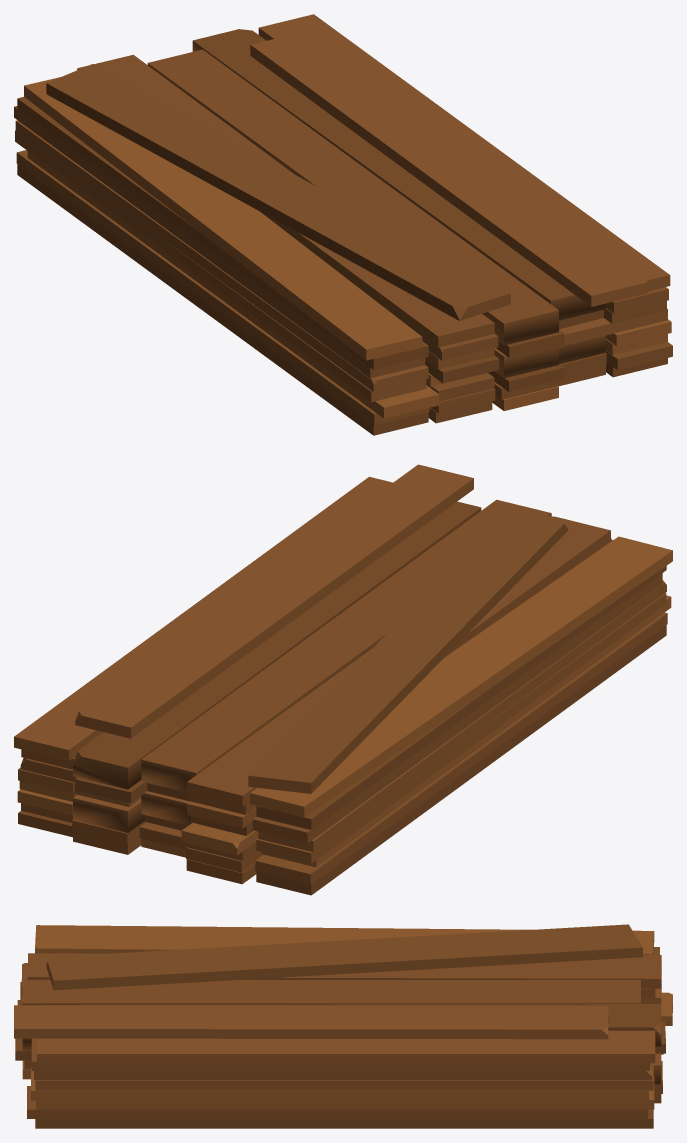
The model's file is Planks_3.glb.
3 views of the same model, one above another, from view 1: azimuth 30°, elevation 25°; view 2: azimuth 150°, elevation 25°; view 3: azimuth 270°, elevation 25° (orthographic). The views are drawn at different scales.
Visible parts, largest first — view 1: Planks_3; view 2: Planks_3; view 3: Planks_3.
Boxes of the visible parts, box(x1,y1,x2,y2) form: Planks_3: box(14, 14, 672, 435); Planks_3: box(14, 464, 672, 895); Planks_3: box(14, 924, 672, 1128).
Size of the model in its own units: 1.33 by 0.4132 by 2.88.
1 material, 1 textured.
